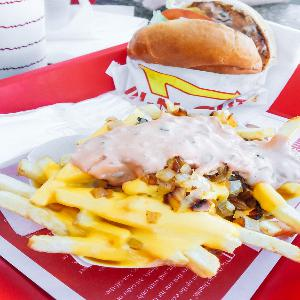cheeseburger: (113, 2, 278, 86)
fries: (14, 119, 300, 267)
